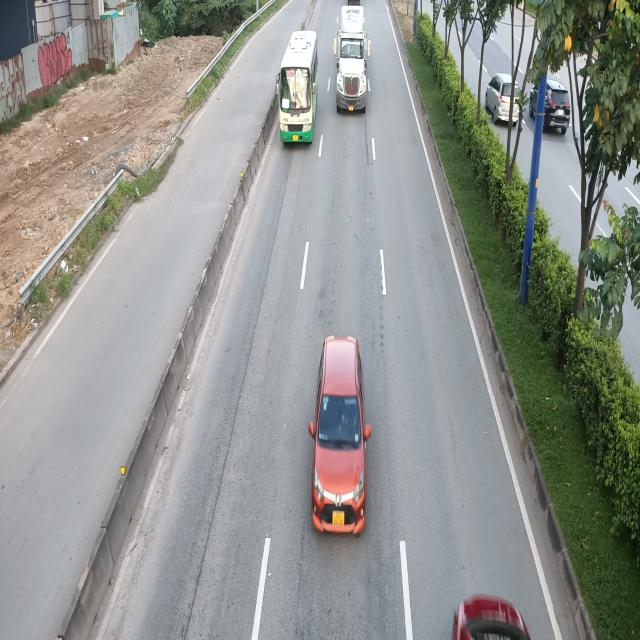car: (312, 336, 373, 536)
coach: (273, 28, 319, 143)
container: (334, 2, 370, 113)
